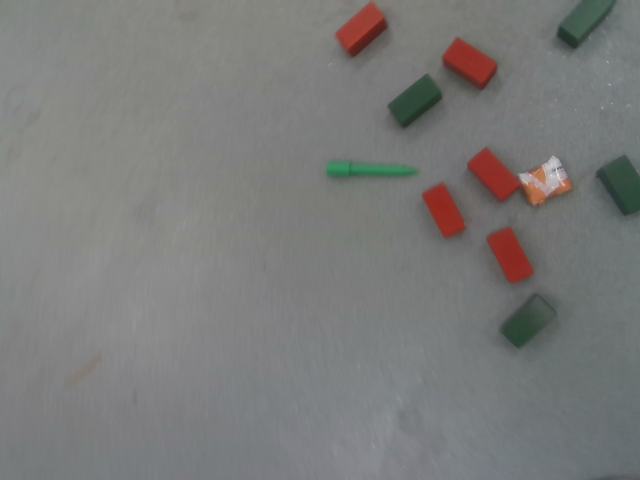Probe: (322, 159, 421, 178)
